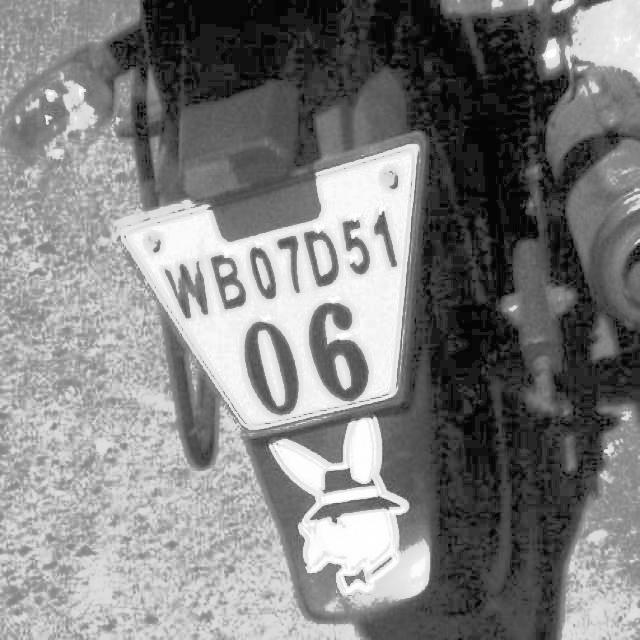Bike: (9, 1, 640, 639)
